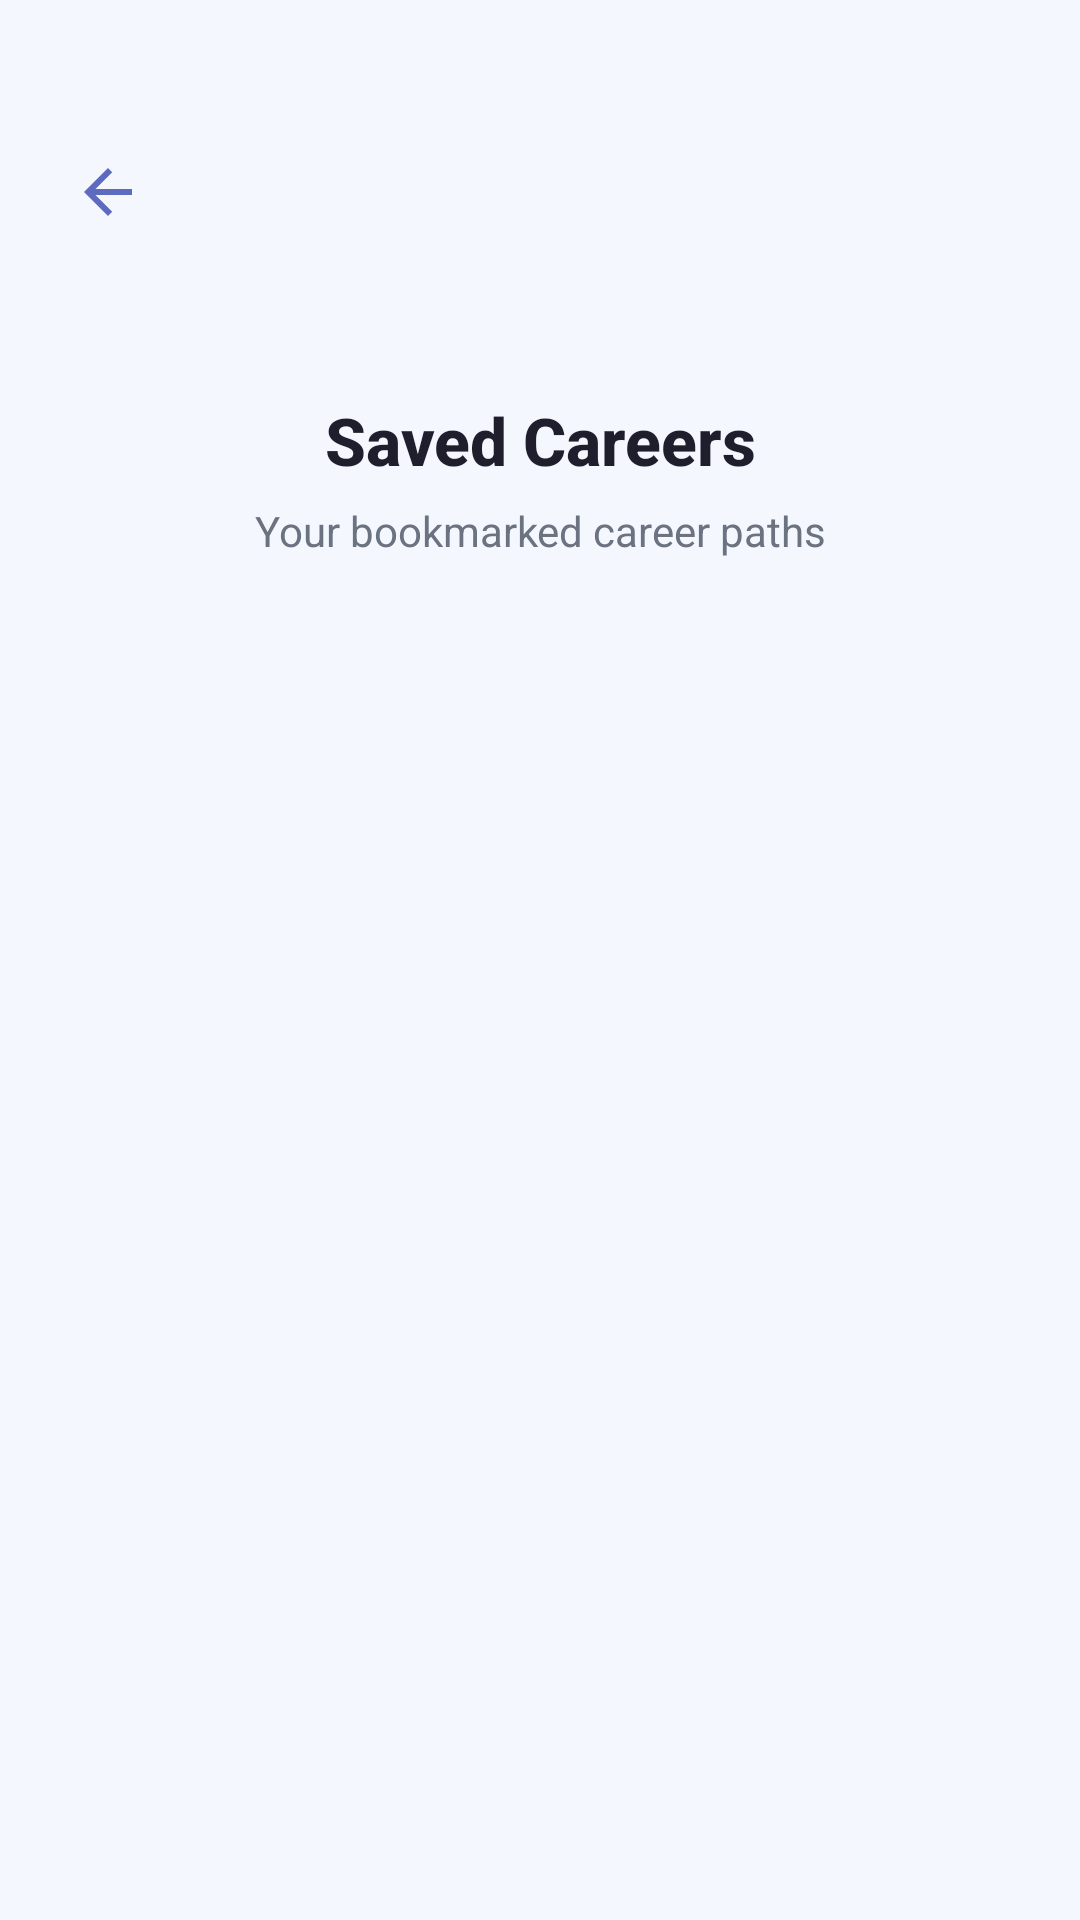

Locate icon controls on the screen. Image size 1080*1920, boxes as (x1, y1, x2, y2).
Go back: (84, 168, 132, 216)
